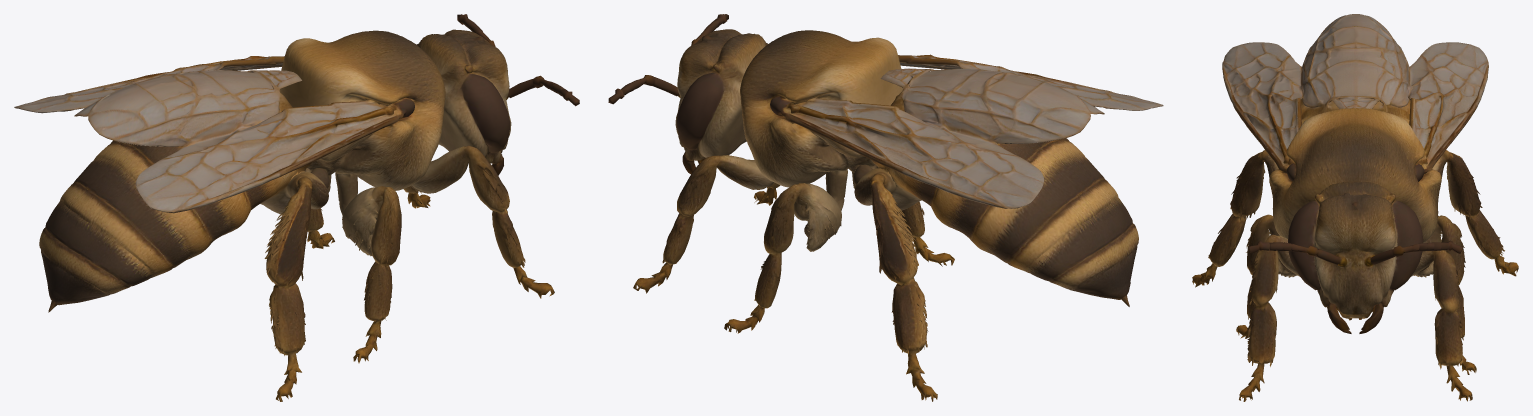
Rendered from bee.glb.
3 views of the same model, side by side, from view 1: azimuth 30°, elevation 25°; view 2: azimuth 150°, elevation 25°; view 3: azimuth 270°, elevation 25° (orthographic). The views are drawn at different scales.
Parts seen in each view (by area): view 1: tripo_node_a8cae42a-73a1-4846-8c9c-1c9a9af42429; view 2: tripo_node_a8cae42a-73a1-4846-8c9c-1c9a9af42429; view 3: tripo_node_a8cae42a-73a1-4846-8c9c-1c9a9af42429.
Boxes of the visible parts, box(x1,y1,x2,y2) form: tripo_node_a8cae42a-73a1-4846-8c9c-1c9a9af42429: box(14, 14, 579, 401); tripo_node_a8cae42a-73a1-4846-8c9c-1c9a9af42429: box(608, 14, 1163, 401); tripo_node_a8cae42a-73a1-4846-8c9c-1c9a9af42429: box(1192, 14, 1518, 401).
Size of the model in its own units: 0.9193 by 0.4922 by 0.6049.
Materials: 1 (1 with a texture image).
